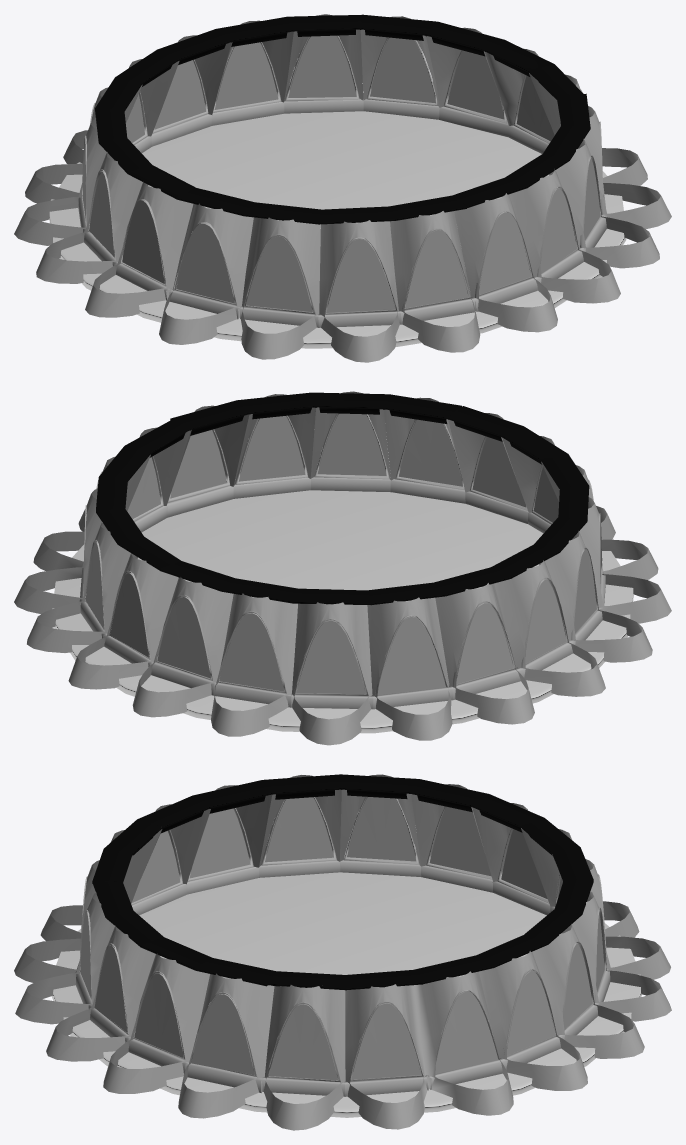
File: Wall 4.fbx
3 renders of one model, top to bottom at view 1: azimuth 30°, elevation 25°; view 2: azimuth 150°, elevation 25°; view 3: azimuth 270°, elevation 25°, orthographic. The views are drawn at different scales.
Parts seen in each view (by area): view 1: group23_pasted__group10_pasted__pasted__group7_pasted__paste; view 2: group23_pasted__group10_pasted__pasted__group7_pasted__paste; view 3: group23_pasted__group10_pasted__pasted__group7_pasted__paste.
Part boxes in pixels (<box>): group23_pasted__group10_pasted__pasted__group7_pasted__paste: <box>14,14,671,362</box>; group23_pasted__group10_pasted__pasted__group7_pasted__paste: <box>14,391,671,745</box>; group23_pasted__group10_pasted__pasted__group7_pasted__paste: <box>14,774,671,1130</box>.
Size of the model in its own units: 1549 by 293 by 1537.
